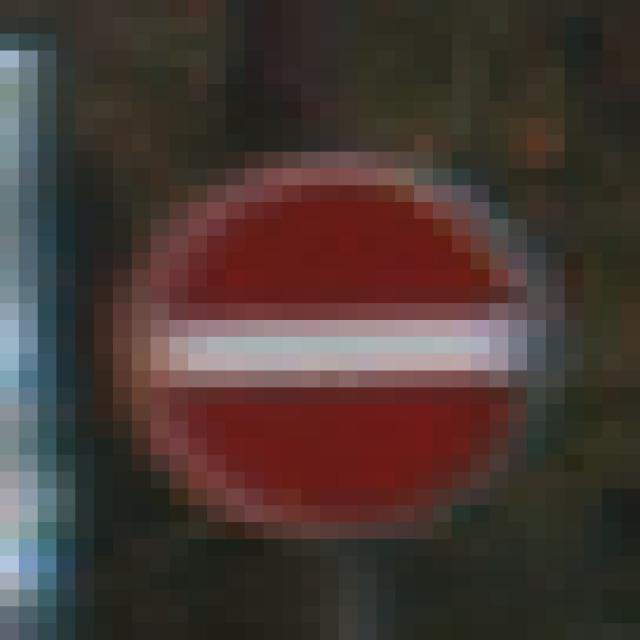No Entry: (95, 102, 528, 540)
